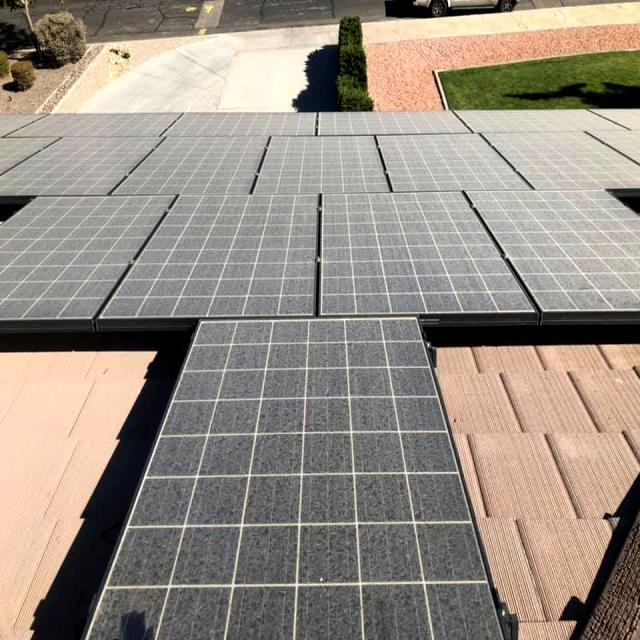dust: (266, 476, 414, 634), (319, 328, 434, 474), (140, 516, 258, 630), (340, 206, 466, 308), (180, 206, 303, 304), (198, 324, 301, 438), (508, 210, 640, 296), (26, 200, 98, 304), (270, 135, 373, 192), (404, 138, 494, 184), (162, 138, 246, 186), (541, 139, 608, 184), (58, 144, 105, 189), (198, 478, 242, 518)
